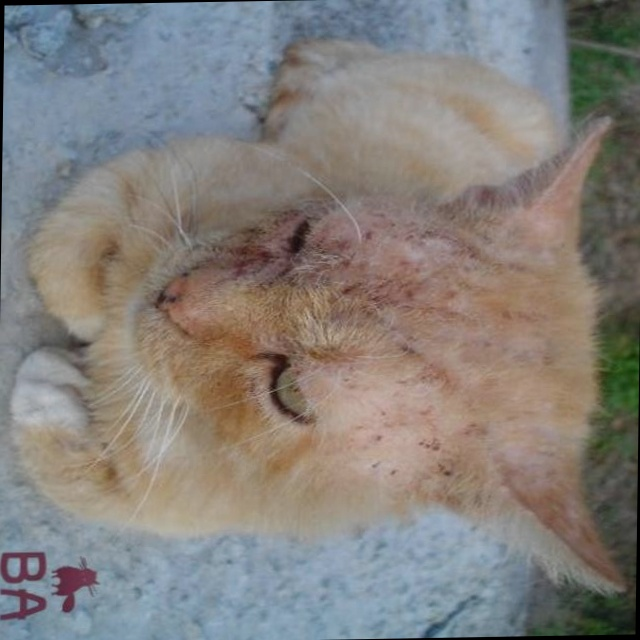ringworm: (322, 224, 401, 305), (222, 242, 271, 284)
